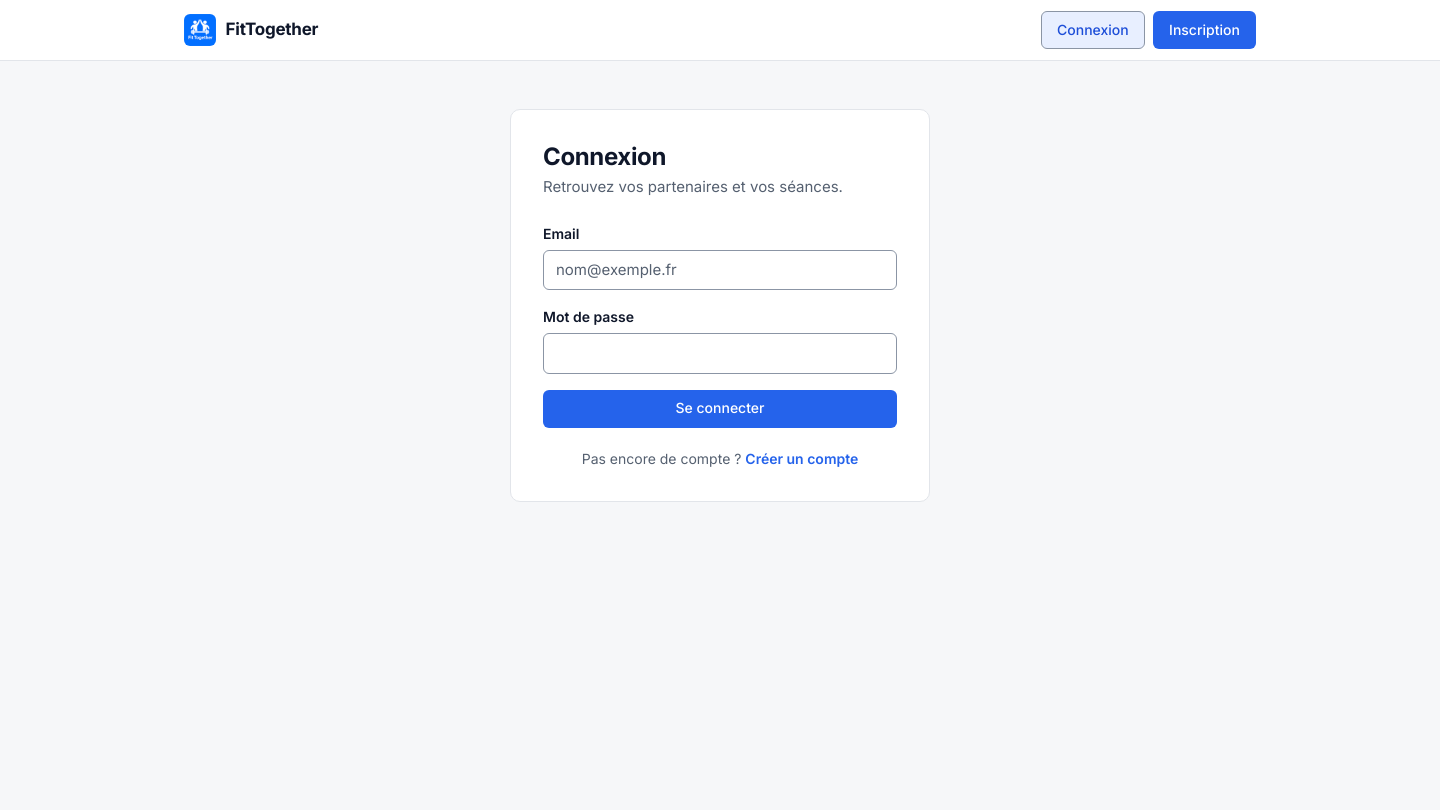
Scenario: Formulaire de connexion › affiche le message d'erreur de l'API
Type "alice@test.fr" into the field labelled "Email" at {"x": 720, "y": 270}, box [543,250,897,290]
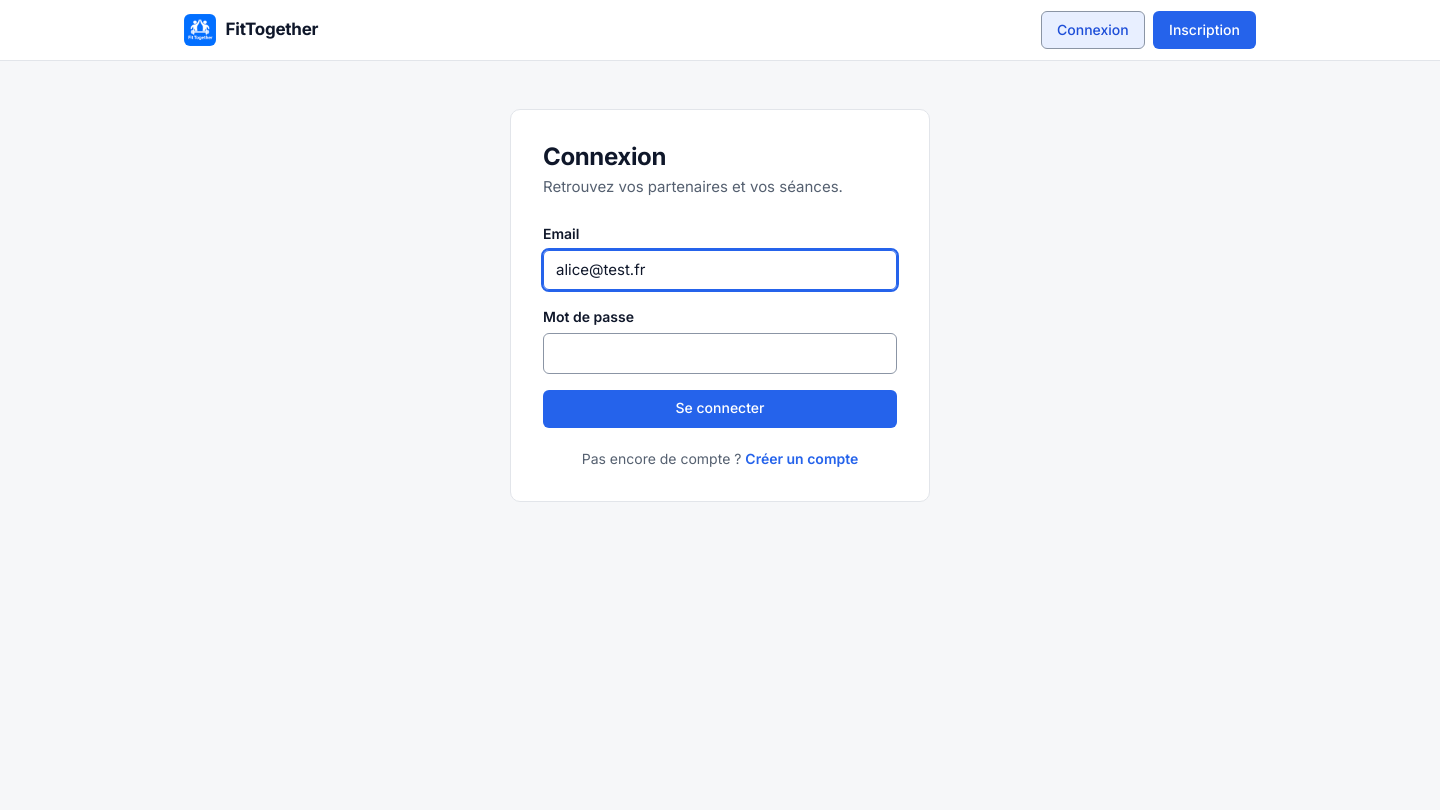
Type "mauvais1" into the password field labelled "Mot de passe" at {"x": 720, "y": 353}, box [543,333,897,374]
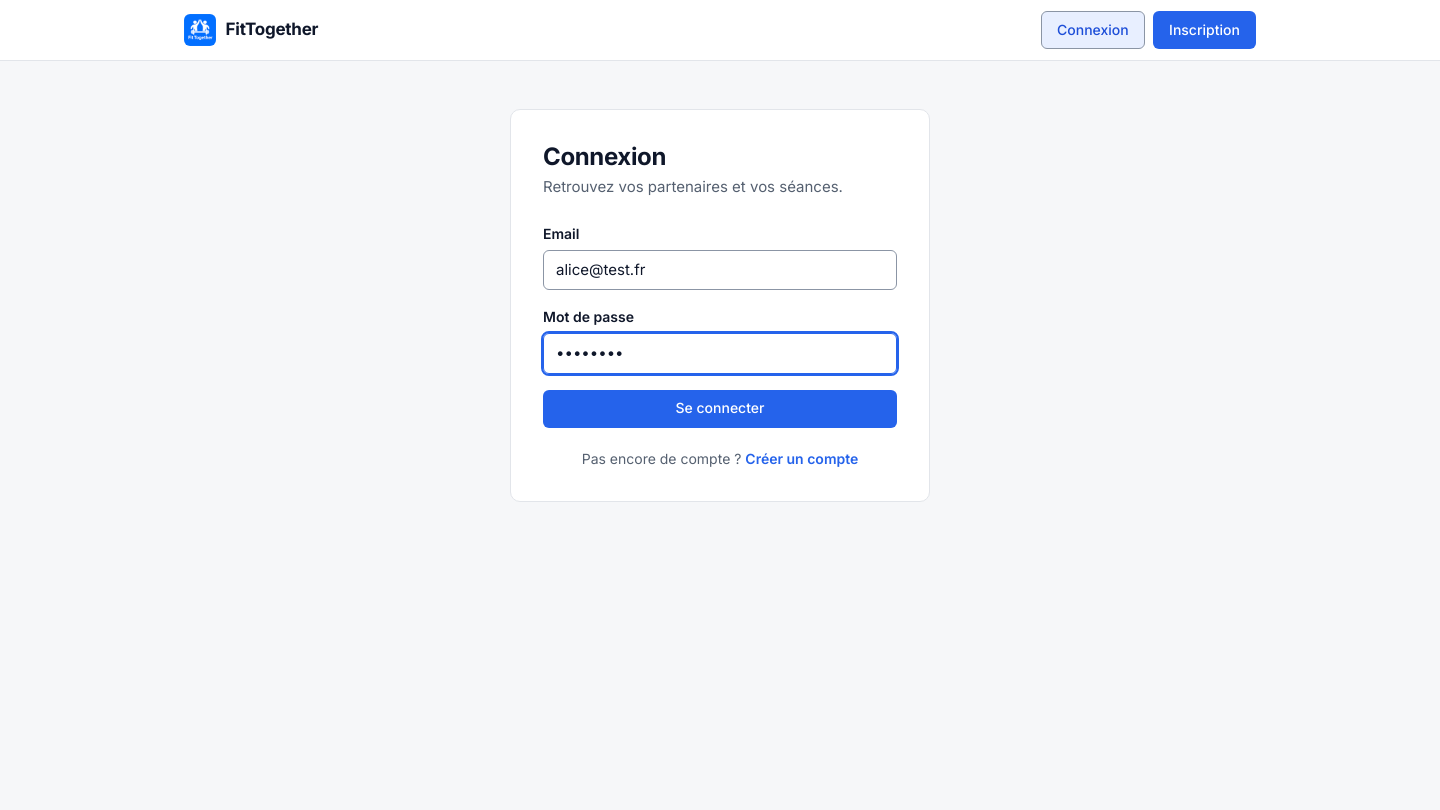
Click the button "Se connecter" at {"x": 720, "y": 408}, box [543,390,897,428]
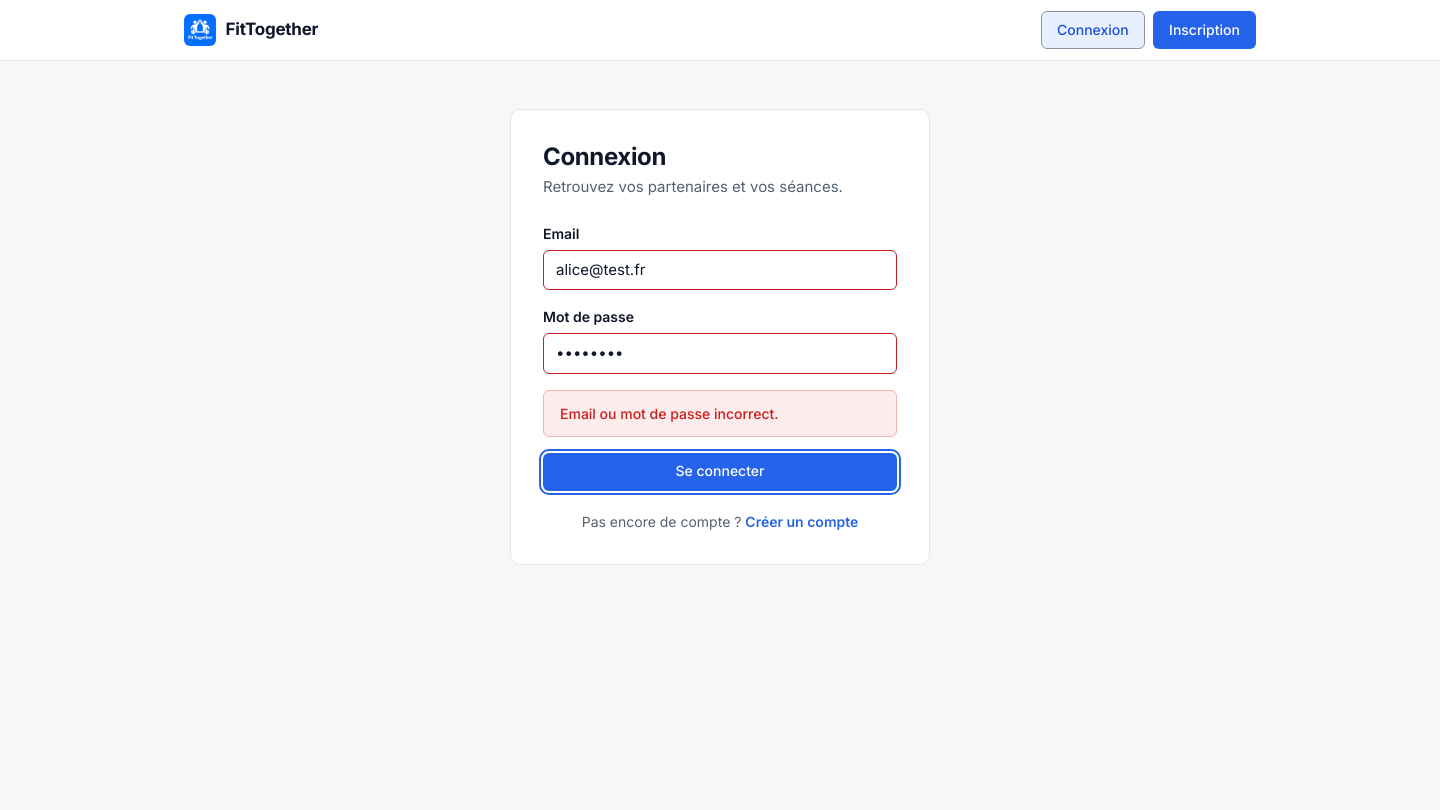
Result: the message reads "Email ou mot de passe incorrect." at [560,404,778,422]
